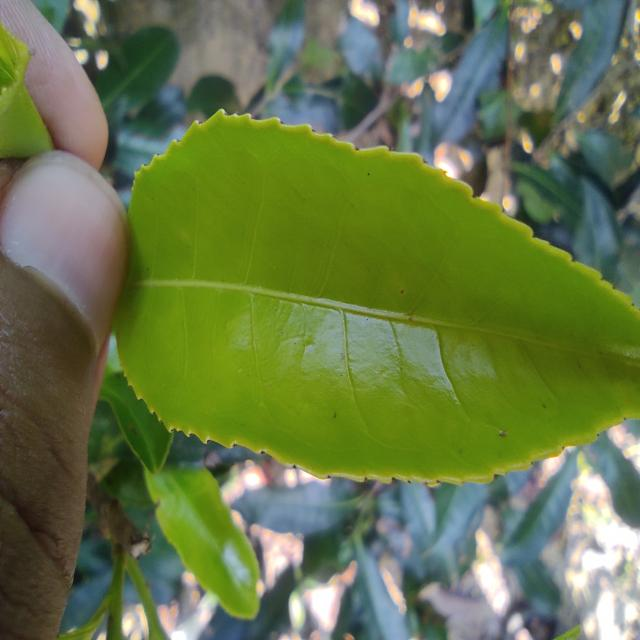Category C(4-7 days): (97, 96, 640, 492)
